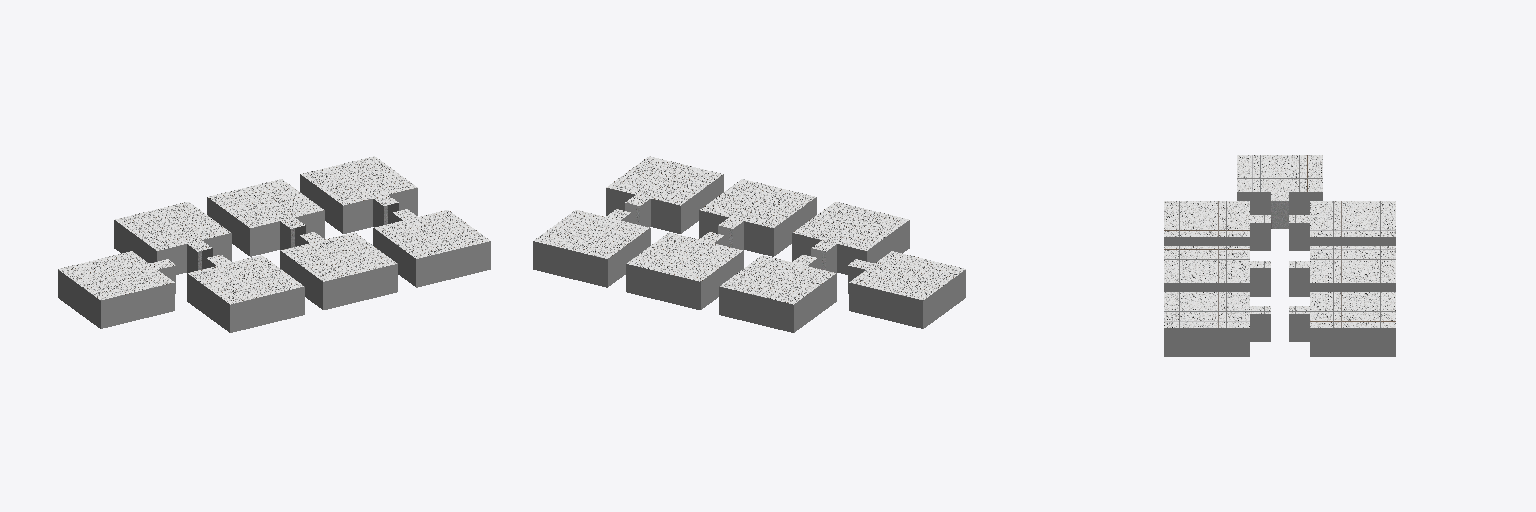
3 views of the same model, side by side, from view 1: azimuth 30°, elevation 25°; view 2: azimuth 150°, elevation 25°; view 3: azimuth 270°, elevation 25° (orthographic).
Visible parts, largest first — view 1: Cube_Cube.001, Cube.001_Cube.000, Cube.002, Cube.003, Cube.007, Cube.008, Cube.004; view 2: Cube_Cube.001, Cube.004, Cube.008, Cube.007, Cube.003, Cube.002, Cube.001_Cube.000; view 3: Cube.007, Cube.003, Cube_Cube.001, Cube.008, Cube.002, Cube.004, Cube.001_Cube.000.
Part boxes in pixels (left/top/right/bottom): Cube_Cube.001: left=58, top=251, right=175, bottom=328; Cube.001_Cube.000: left=187, top=255, right=304, bottom=332; Cube.002: left=280, top=232, right=397, bottom=309; Cube.003: left=373, top=209, right=490, bottom=287; Cube.007: left=300, top=156, right=417, bottom=233; Cube.008: left=207, top=179, right=324, bottom=256; Cube.004: left=114, top=202, right=231, bottom=274; Cube_Cube.001: left=848, top=251, right=965, bottom=328; Cube.004: left=719, top=255, right=836, bottom=332; Cube.008: left=626, top=232, right=743, bottom=309; Cube.007: left=533, top=209, right=650, bottom=287; Cube.003: left=606, top=156, right=723, bottom=233; Cube.002: left=699, top=179, right=816, bottom=256; Cube.001_Cube.000: left=792, top=202, right=909, bottom=274; Cube.007: left=1289, top=292, right=1395, bottom=356; Cube.003: left=1164, top=292, right=1270, bottom=356; Cube_Cube.001: left=1237, top=155, right=1322, bottom=228; Cube.008: left=1289, top=246, right=1395, bottom=296; Cube.002: left=1164, top=246, right=1270, bottom=296; Cube.004: left=1289, top=201, right=1395, bottom=250; Cube.001_Cube.000: left=1164, top=201, right=1270, bottom=250.
Bounding box in the file's own units: 57 × 4.4 × 32.4.
9 materials, 6 textured.